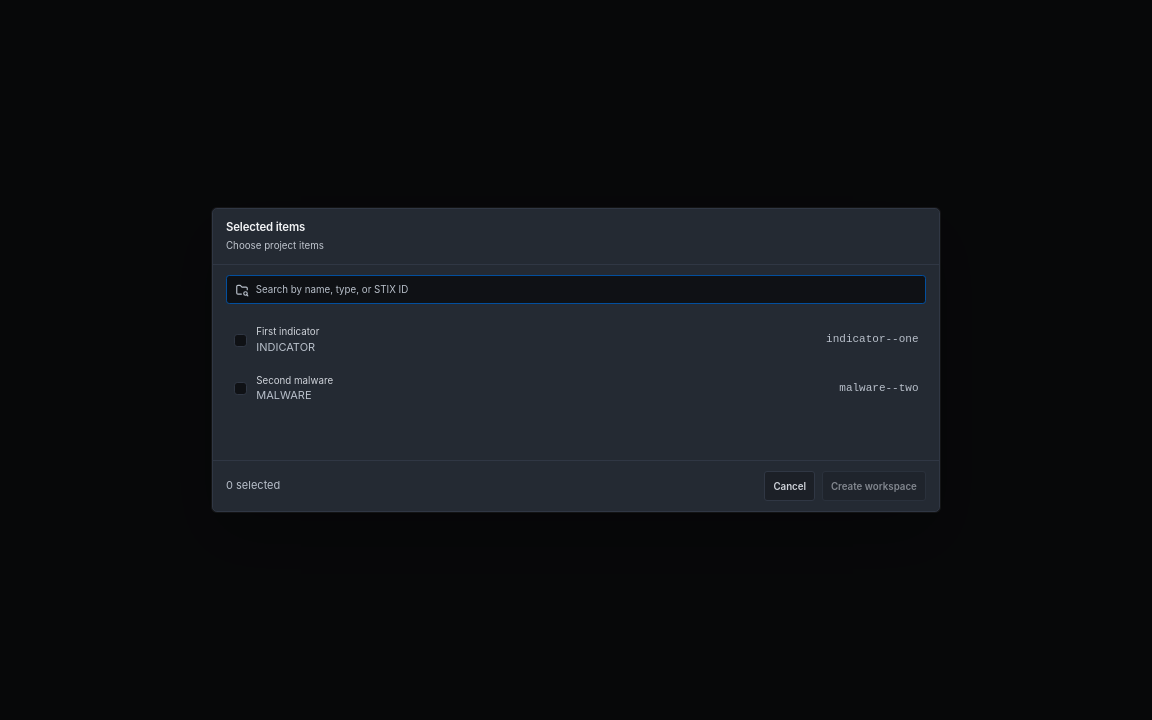
Test: SelectedItemsDialog › renders every item unchecked until that specific row is selected
Expected: the checkbox labelled "Second malware malware malware--two" is not checked, [226, 366, 926, 412]
Click the checkbox labelled "First indicator indicator indicator--one" at {"x": 288, "y": 331}, box [226, 317, 926, 363]
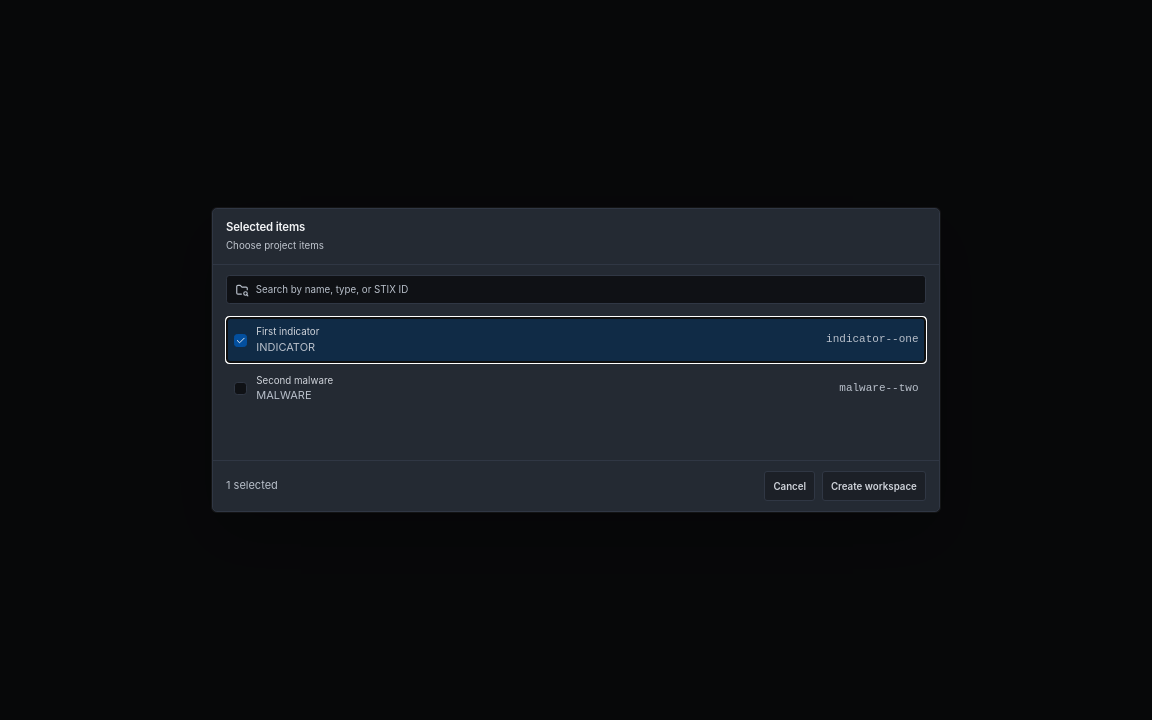
Expected: the checkbox labelled "Second malware malware malware--two" is not checked, [226, 366, 926, 412]
Result: the checkbox labelled "First indicator indicator indicator--one" is checked at [226, 317, 926, 363]
Result: the number of icons with test id "selected-item-checkmark" is 1 at [234, 335, 246, 346]
